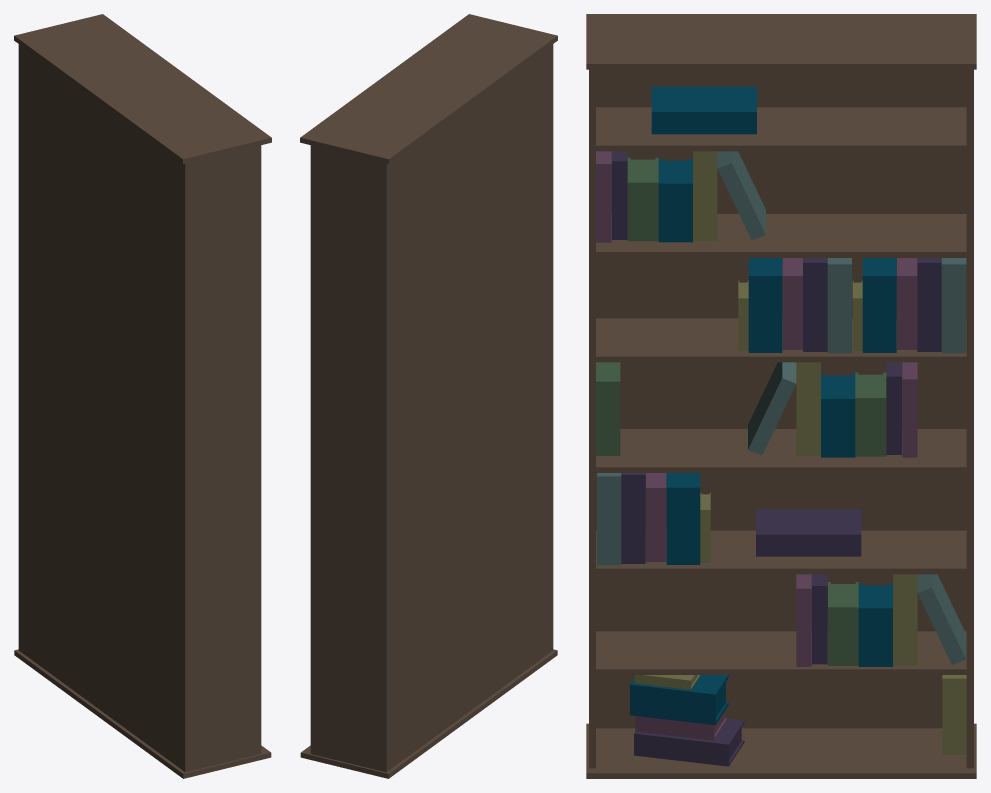
Rendered from Bookshelf_1_with_books.fbx.
3 renders of one model, left to right at view 1: azimuth 30°, elevation 25°; view 2: azimuth 150°, elevation 25°; view 3: azimuth 270°, elevation 25°, orthographic. The views are drawn at different scales.
Visible parts, largest first — view 1: pCube4, pCube5, pCube6; view 2: pCube4, pCube5, pCube6; view 3: pCube4, pCube5, pCube6, pCube15, pCube14, pCube12, pCube7, Book_15 (×3), pCube11, pCube13, Book_4 (×3), Book_3 (×3) (+17 smaller).
Boxes of the visible parts, <box> form: pCube4: <box>18,44,261,772</box>; pCube5: <box>14,14,271,164</box>; pCube6: <box>14,649,271,778</box>; pCube4: <box>310,44,553,772</box>; pCube5: <box>300,14,557,164</box>; pCube6: <box>300,649,557,778</box>; pCube4: <box>589,69,973,768</box>; pCube5: <box>586,14,976,69</box>; pCube6: <box>586,723,976,778</box>; pCube15: <box>596,107,966,151</box>; pCube14: <box>596,214,966,257</box>; pCube12: <box>596,429,966,472</box>; pCube7: <box>596,631,966,674</box>; Book_15 (×3): <box>630,258,896,725</box>; pCube11: <box>596,530,966,574</box>; pCube13: <box>596,318,966,362</box>; Book_4 (×3): <box>658,158,892,666</box>; Book_3 (×3): <box>627,157,886,665</box>.
Bounding box in the file's own units: 171 × 1138 × 562.
